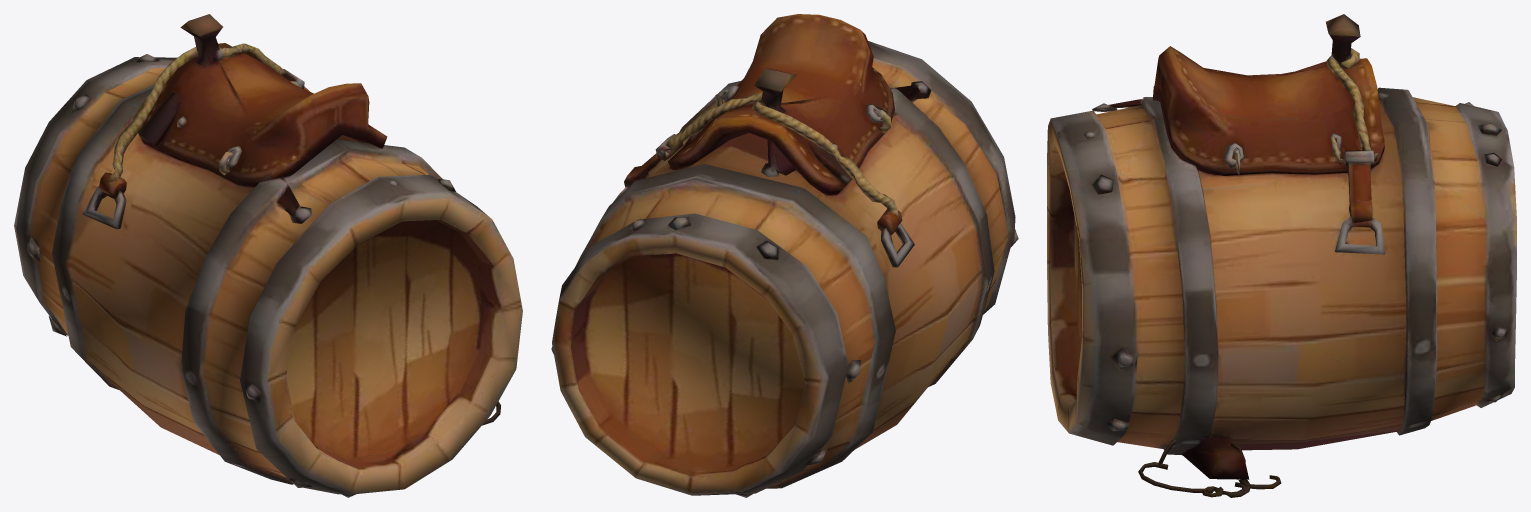
File: tavern_barrel.glb
The picture shows the model from 3 angles, left to right: view 1: azimuth 30°, elevation 25°; view 2: azimuth 150°, elevation 25°; view 3: azimuth 270°, elevation 25°; orthographic projection. The views are drawn at different scales.
Parts seen in each view (by area): view 1: tripo_node_78210b8b-c372-43e2-ae7a-1f530f6816c8; view 2: tripo_node_78210b8b-c372-43e2-ae7a-1f530f6816c8; view 3: tripo_node_78210b8b-c372-43e2-ae7a-1f530f6816c8.
Boxes of the visible parts, x1,y1,x2,y2 form: tripo_node_78210b8b-c372-43e2-ae7a-1f530f6816c8: [14, 14, 522, 497]; tripo_node_78210b8b-c372-43e2-ae7a-1f530f6816c8: [551, 14, 1018, 497]; tripo_node_78210b8b-c372-43e2-ae7a-1f530f6816c8: [1047, 14, 1516, 497].
Size of the model in its own units: 1.38 by 1.5 by 1.59.
Materials: 1 (1 with a texture image).
